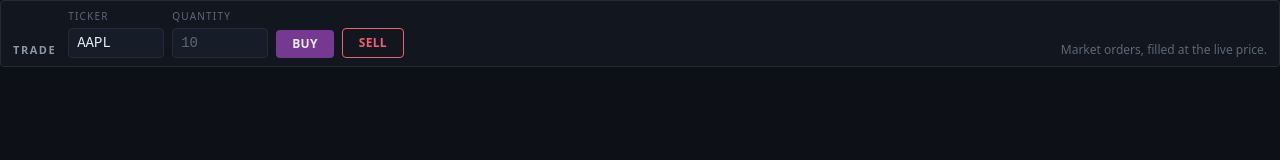
Test: TradeBar › disables both buttons while an order is in flight
Type "1" into the number field labelled "Quantity" at (220,43), box [172,28,268,58]
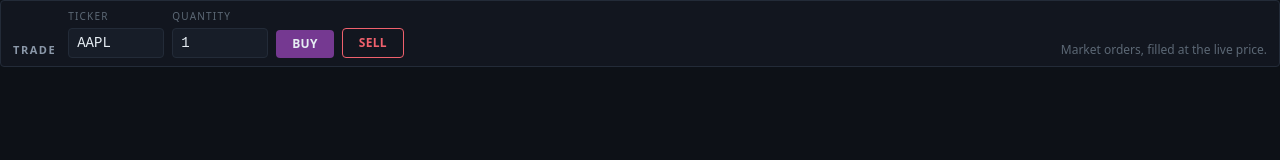
Click the button "Buy" at (305,44), box [276,30,334,58]
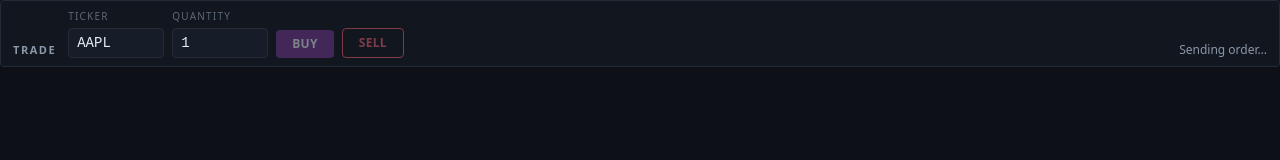
Expected: the element with test id "trade-status" reads "Sending order…", [1179,41,1267,58]
Click the button "Sell" at (373,43), box [342,28,404,58]
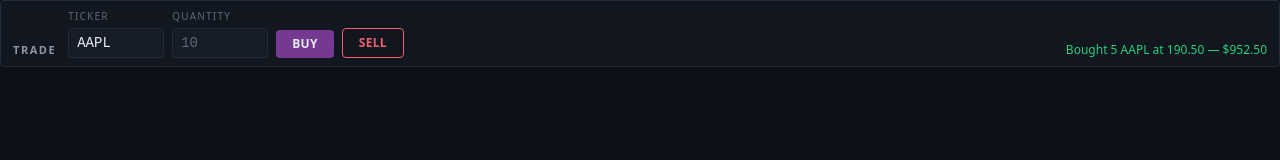
Expected: the element with test id "trade-status" shows "Bought", [1066,41,1108,58]
